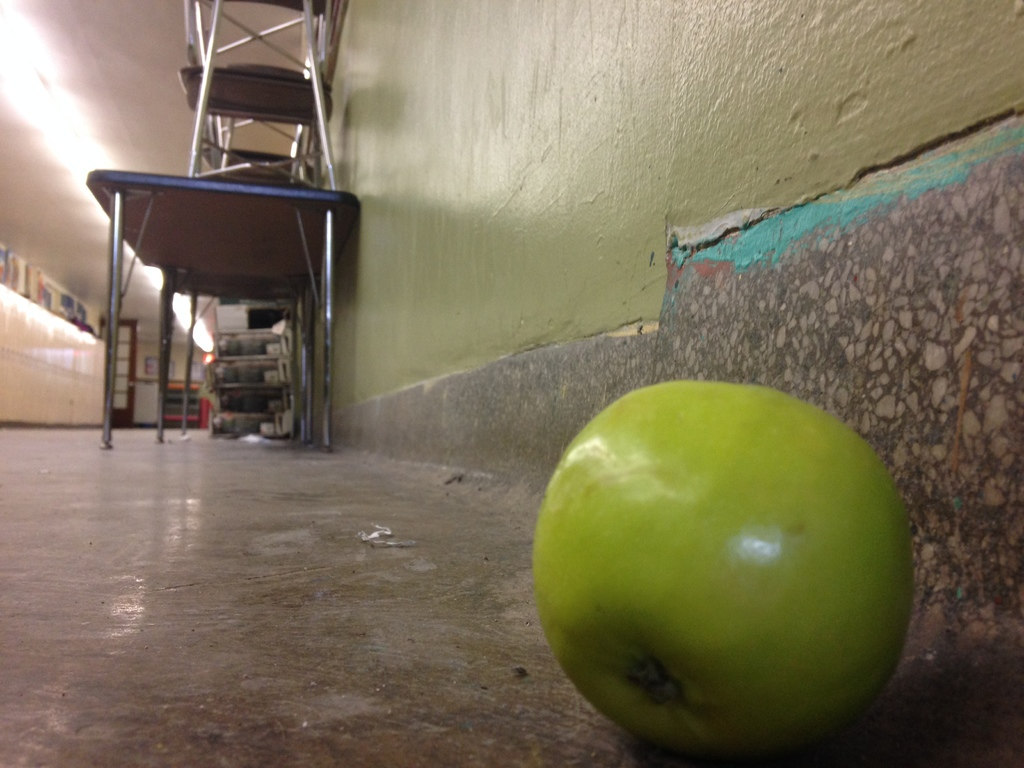Apple: (539, 380, 915, 761)
